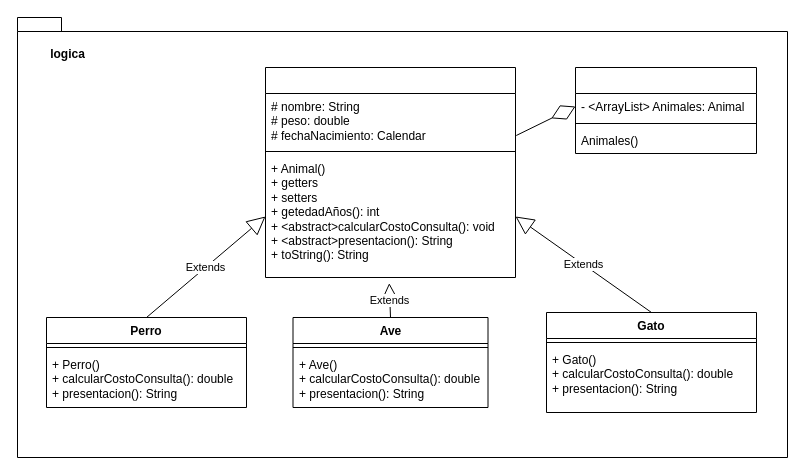
Some shapes in this 805 by 475 pixel diagram are drawn without their labels. Here are the shapes that lost their labels. From the top down, the box of each, then its label:
(574, 66, 756, 154): Veterinaria
(264, 66, 516, 278): <abstract>Animal
